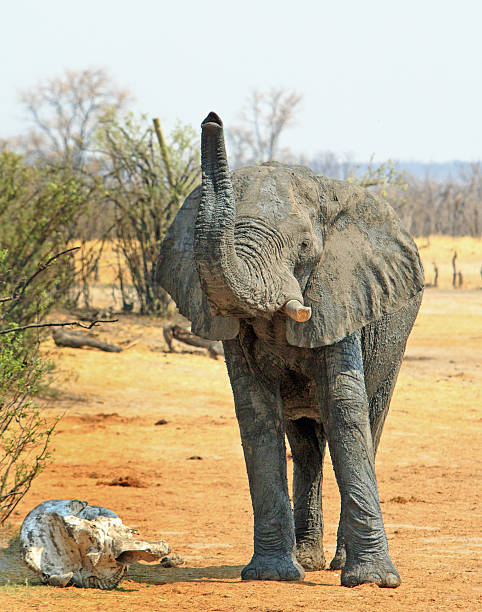africanelephant: (168, 136, 330, 348)
